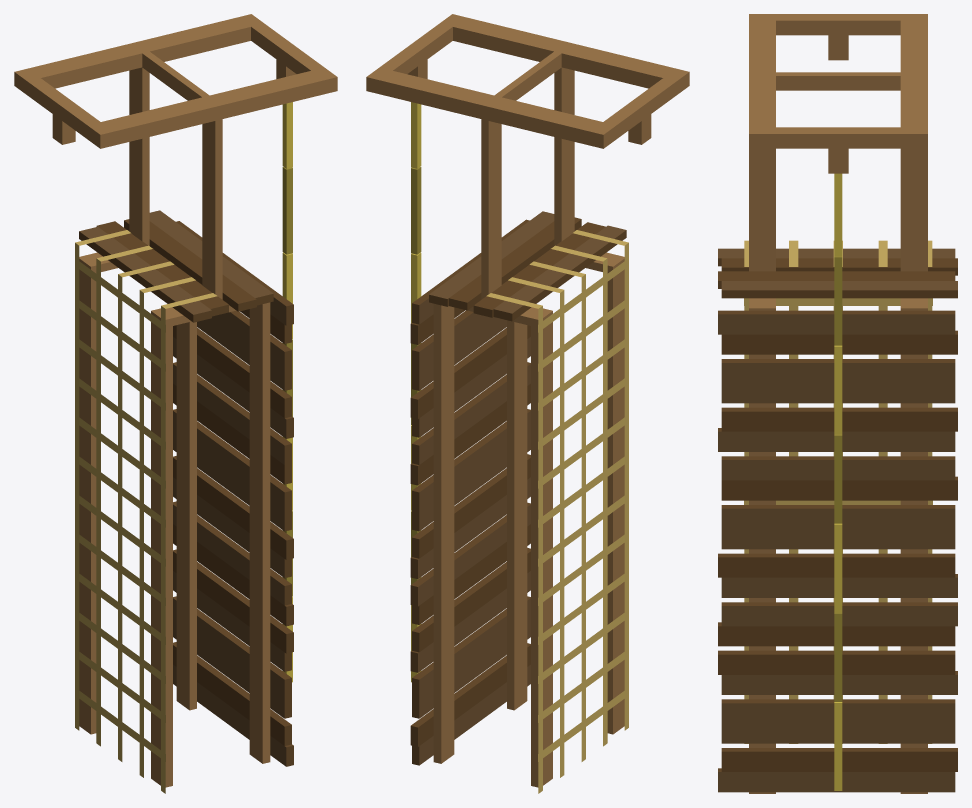
The model's file is militaryTrainingWall.fbx.
3 views of the same model, side by side, from view 1: azimuth 30°, elevation 25°; view 2: azimuth 150°, elevation 25°; view 3: azimuth 270°, elevation 25° (orthographic). The views are drawn at different scales.
Parts seen in each view (by area): view 1: trainingWall_main, trainingWall_woods, Plane, trainingWall_rope2, trainingWall_rope1; view 2: trainingWall_main, trainingWall_woods, Plane, trainingWall_rope2, trainingWall_rope1; view 3: trainingWall_woods, trainingWall_main, Plane, trainingWall_rope2, trainingWall_rope3, trainingWall_rope4, trainingWall_rope5, trainingWall_rope6, trainingWall_rope7, trainingWall_rope1.
Boxes of the visible parts, x1,y1,x2,y2 form: trainingWall_main: (14,14,337,787); trainingWall_woods: (79,210,293,766); Plane: (75,230,217,793); trainingWall_rope2: (282,167,292,254); trainingWall_rope1: (282,102,292,168); trainingWall_main: (366,14,689,787); trainingWall_woods: (410,211,626,765); Plane: (486,230,628,793); trainingWall_rope2: (411,167,421,254); trainingWall_rope1: (411,102,421,168); trainingWall_woods: (718,248,957,792); trainingWall_main: (749,14,927,793); Plane: (744,240,932,743); trainingWall_rope2: (834,256,842,345); trainingWall_rope3: (834,345,842,434); trainingWall_rope4: (834,434,842,523); trainingWall_rope5: (834,523,842,612); trainingWall_rope6: (834,613,842,701); trainingWall_rope7: (834,702,842,790); trainingWall_rope1: (834,173,842,256).
Size of the model in its own units: 318 by 862 by 268.
